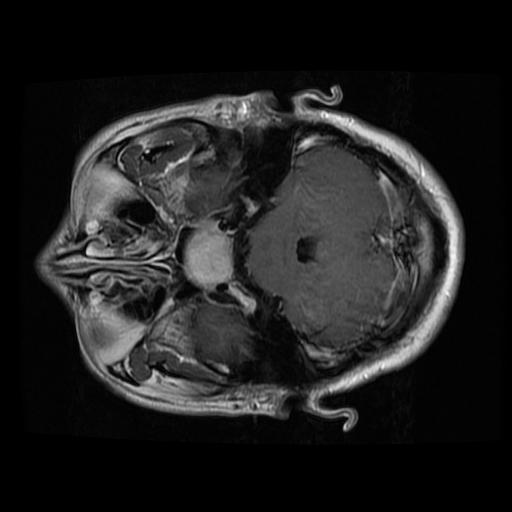pituitary tumour: (183, 221, 235, 285)
